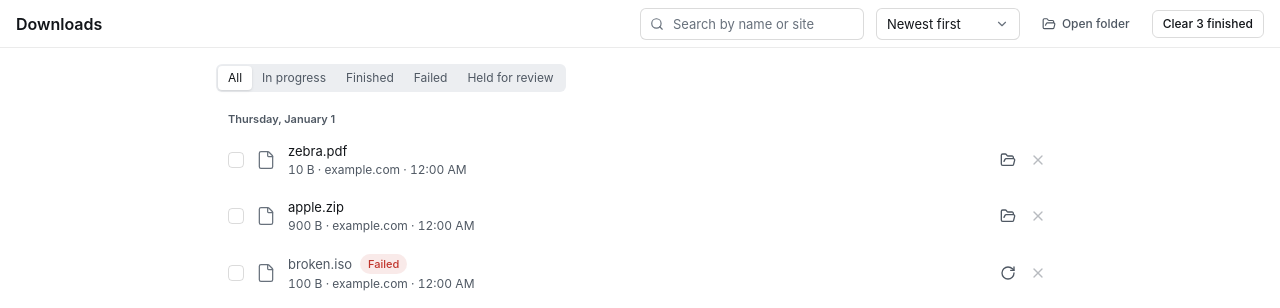
Test case: narrowing and acting on the list › shows only the failed ones when asked
The width and height of the screenshot is (1280, 308).
Click the radio button labelled "Failed": point(431, 78) [404,66,458,90]
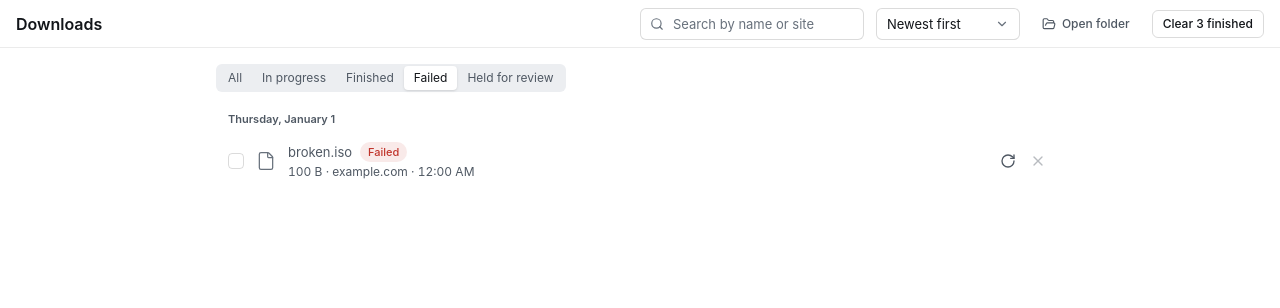
Expected: the button "broken.iso" is shown, [288,143,352,161]
Expected: the button "zebra.pdf" is gone
